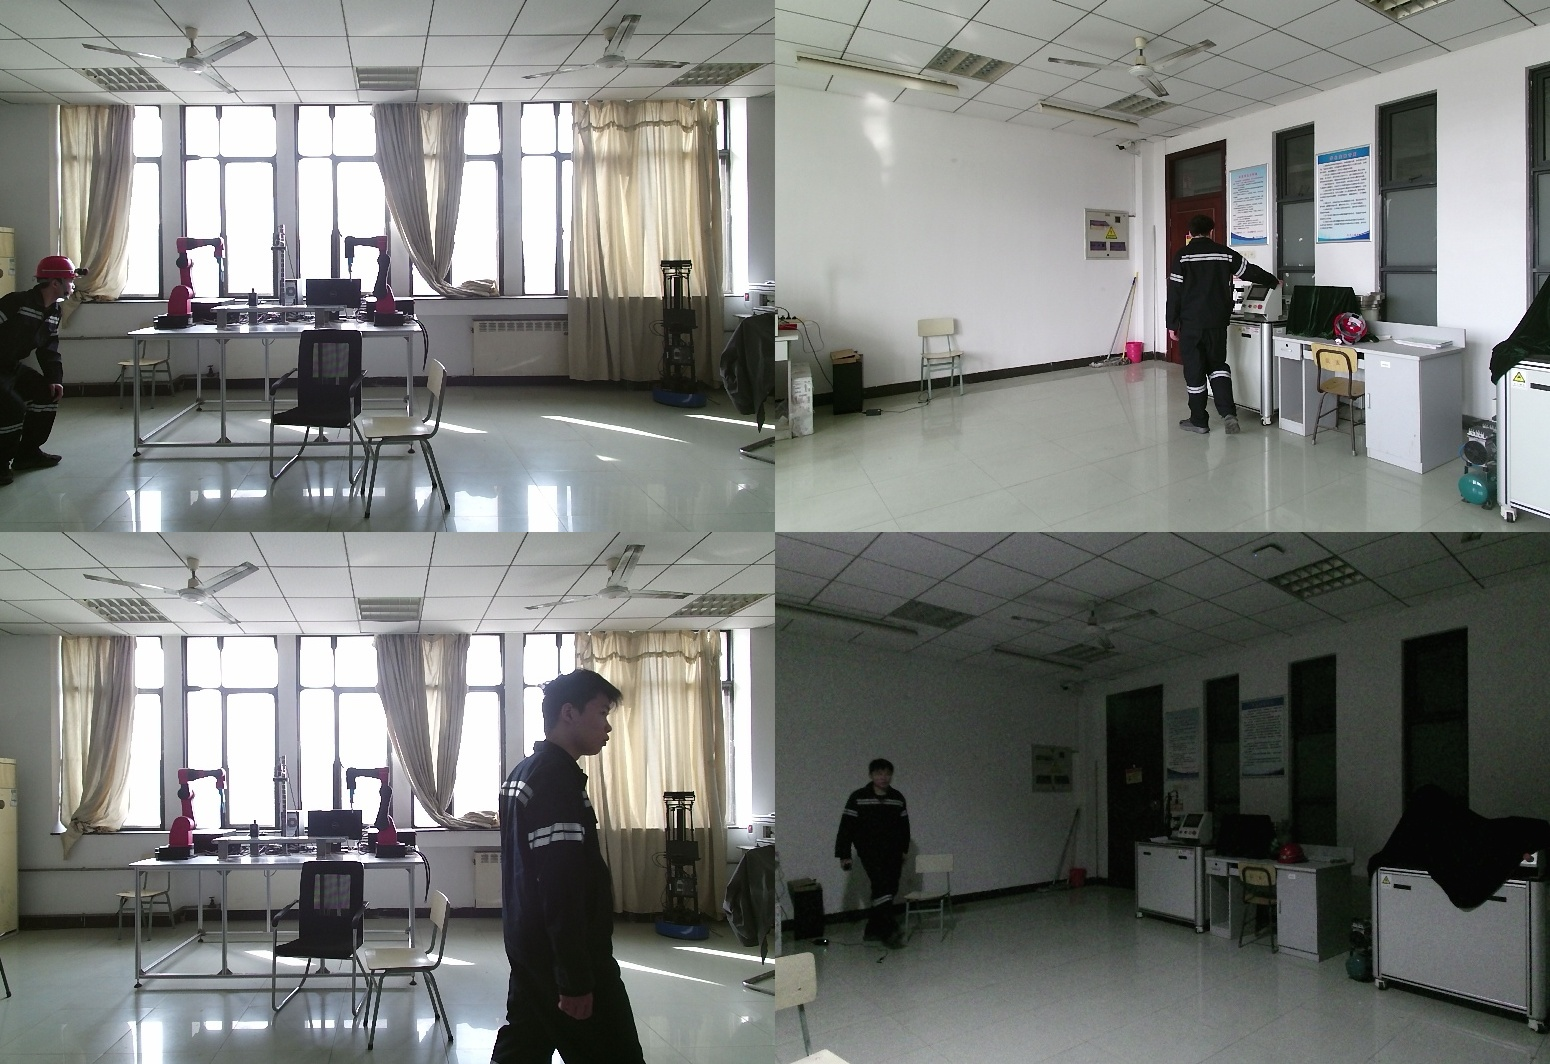person: (496, 674, 657, 1064), (1176, 217, 1282, 435), (2, 257, 83, 483), (832, 760, 911, 942)
